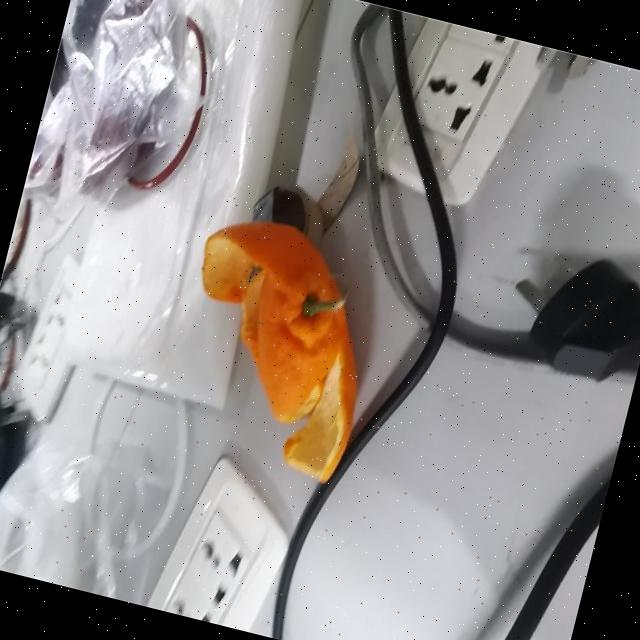orange-peel: (154, 203, 398, 488)
